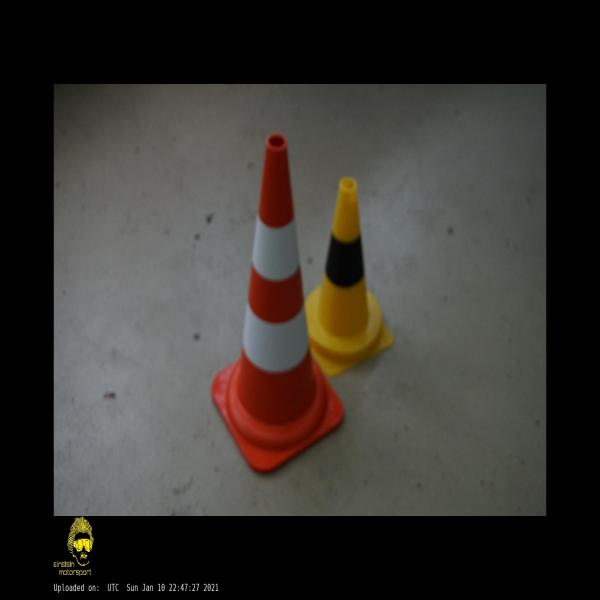large_orange_cone: (210, 133, 344, 473)
yellow_cone: (306, 177, 392, 378)
